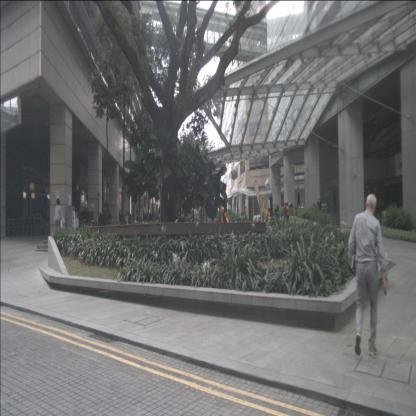human-pedestrian-adult: (347, 193, 388, 356), (53, 198, 66, 242), (273, 209, 280, 229), (285, 202, 290, 226), (265, 208, 271, 228), (296, 191, 302, 209), (283, 202, 287, 226), (227, 201, 232, 219), (276, 204, 280, 224)
